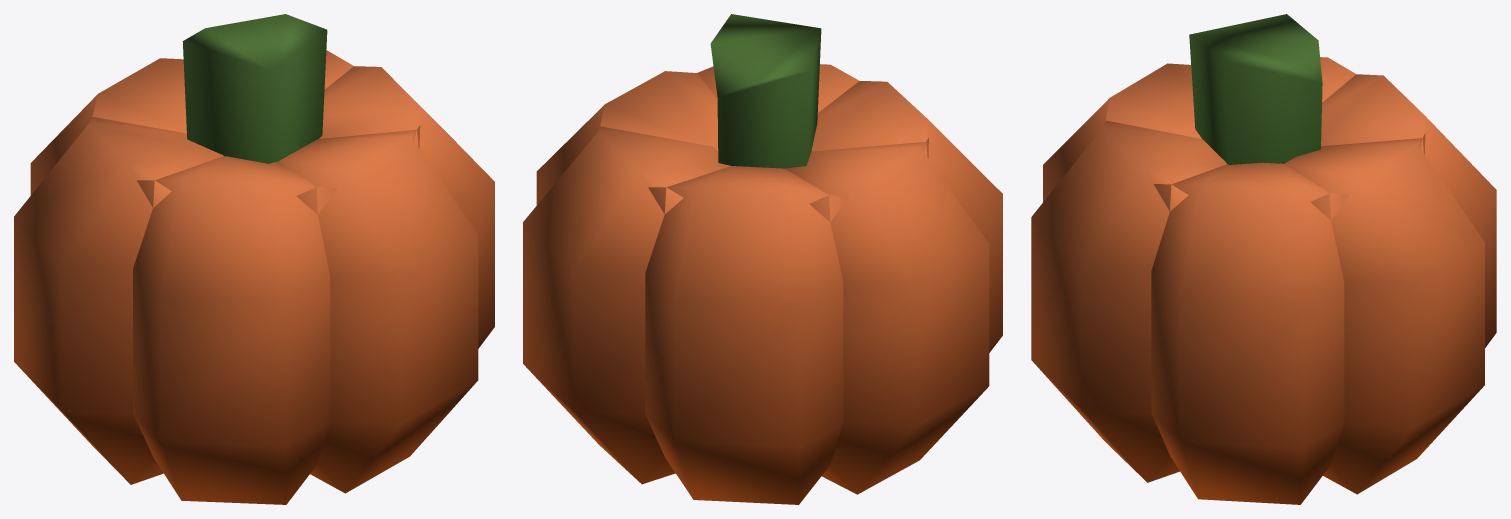
Rendered from Pumpkin.fbx.
The picture shows the model from 3 angles, left to right: view 1: azimuth 30°, elevation 25°; view 2: azimuth 150°, elevation 25°; view 3: azimuth 270°, elevation 25°; orthographic projection. The views are drawn at different scales.
Visible parts, largest first — view 1: Pumpkin; view 2: Pumpkin; view 3: Pumpkin.
Part boxes in pixels (x1=…): Pumpkin: x1=14, y1=14, x2=494, y2=504; Pumpkin: x1=523, y1=14, x2=1002, y2=504; Pumpkin: x1=1031, y1=14, x2=1496, y2=504.
Size of the model in its own units: 0.4891 by 0.45 by 0.4732.
1 material, 1 textured.
